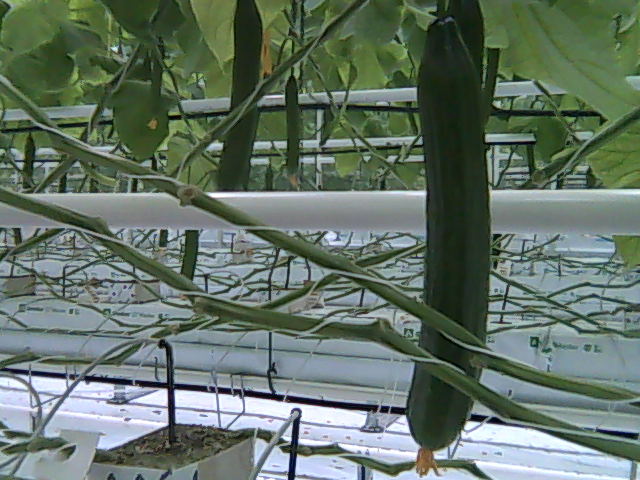concombre: (404, 3, 498, 480)
